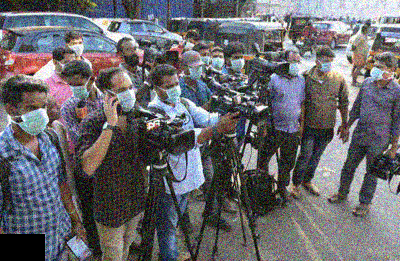with_mask: (16, 101, 48, 137), (110, 84, 134, 112), (157, 81, 180, 104), (68, 82, 89, 100), (370, 63, 389, 81), (228, 55, 244, 72), (317, 58, 333, 74), (187, 66, 202, 82), (68, 41, 83, 57), (286, 59, 300, 76), (198, 52, 210, 68), (212, 54, 224, 68), (184, 40, 197, 50)
without_mask: (121, 46, 139, 65), (46, 101, 60, 121)
